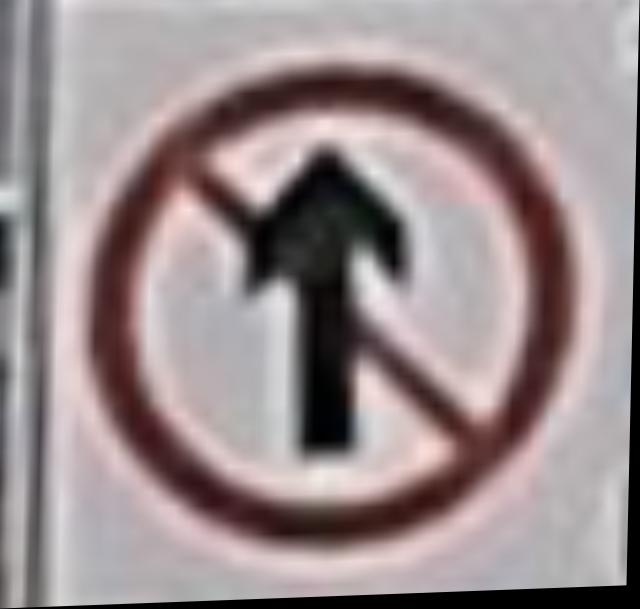not_go_straight: (74, 47, 583, 568)
